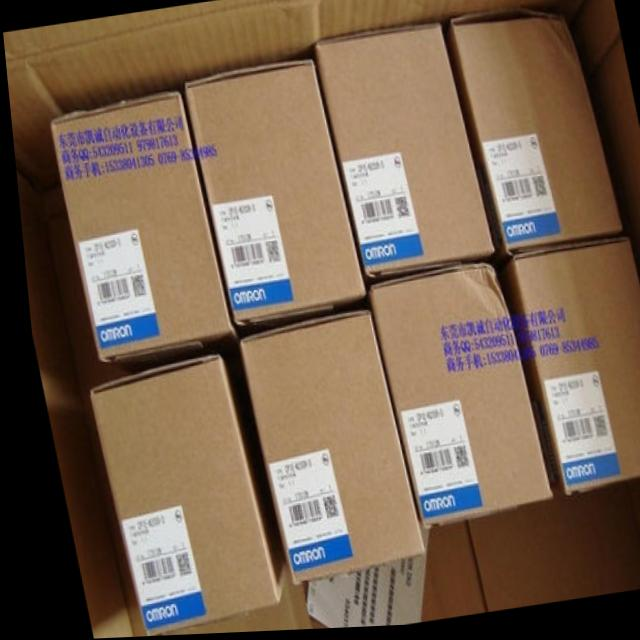box: (80, 354, 276, 637), (46, 93, 232, 376), (230, 312, 416, 589), (361, 264, 545, 533), (181, 61, 361, 330), (309, 27, 491, 281), (449, 12, 618, 270), (493, 241, 640, 505)
